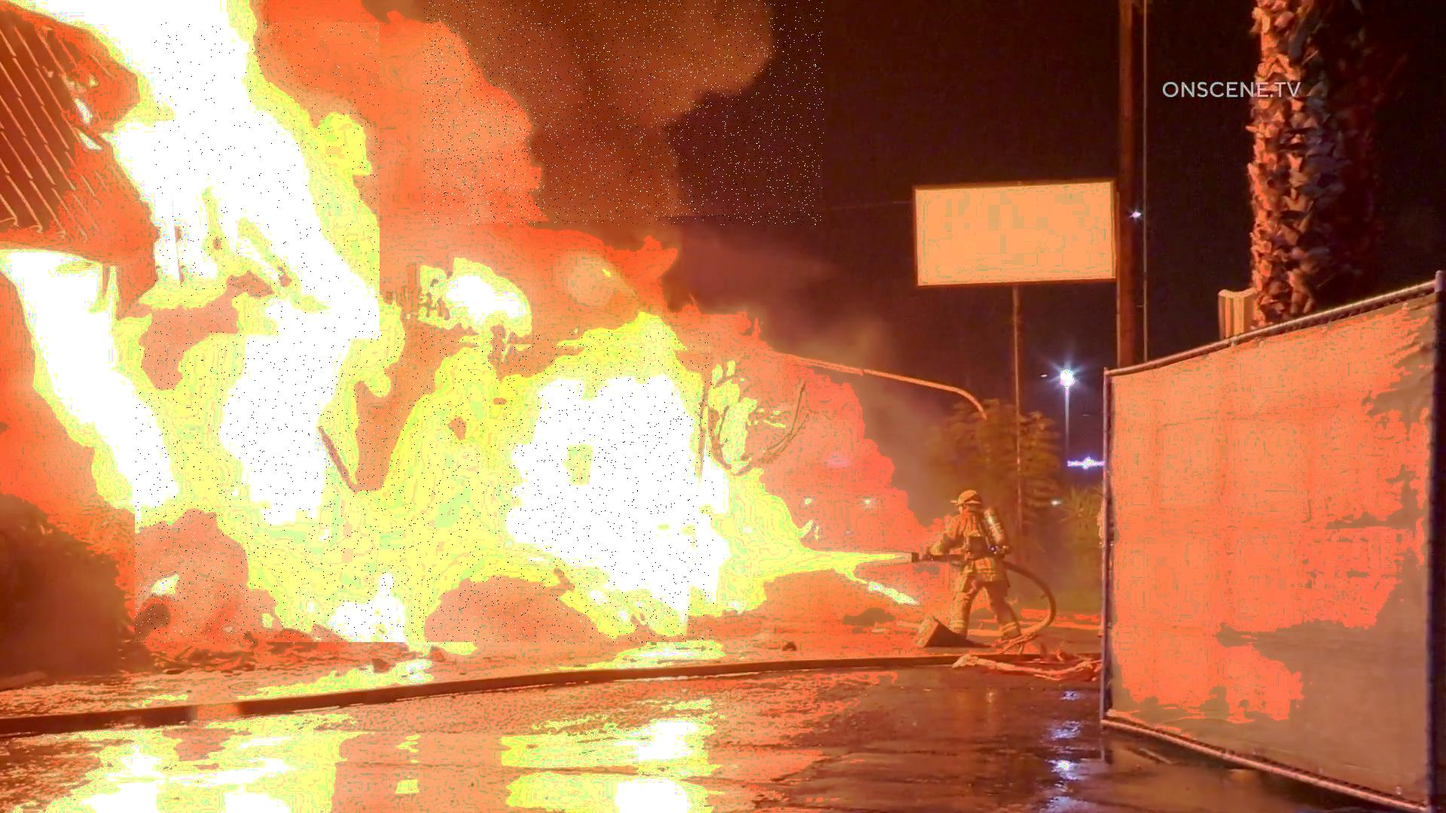fire: (135, 332, 714, 644), (155, 23, 382, 625)
smoke: (424, 0, 825, 225)
